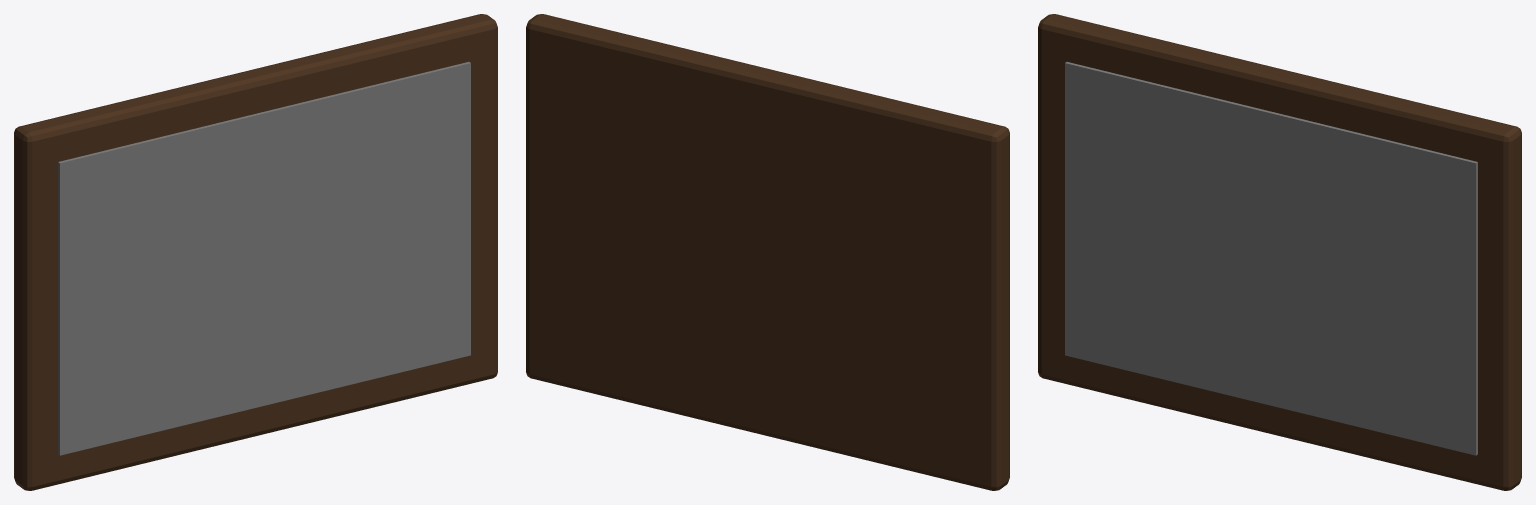
Rendered from framed_picture.glb.
The picture shows the model from 3 angles, left to right: view 1: azimuth 30°, elevation 25°; view 2: azimuth 150°, elevation 25°; view 3: azimuth 330°, elevation 25°; orthographic projection.
Visible parts, largest first — view 1: framed_picture; view 2: framed_picture; view 3: framed_picture.
Part boxes in pixels (bbox=[...]): framed_picture: bbox=[14, 14, 497, 490]; framed_picture: bbox=[526, 14, 1009, 490]; framed_picture: bbox=[1038, 14, 1521, 490].
Size of the model in its own units: 0.9 by 0.65 by 0.056.
